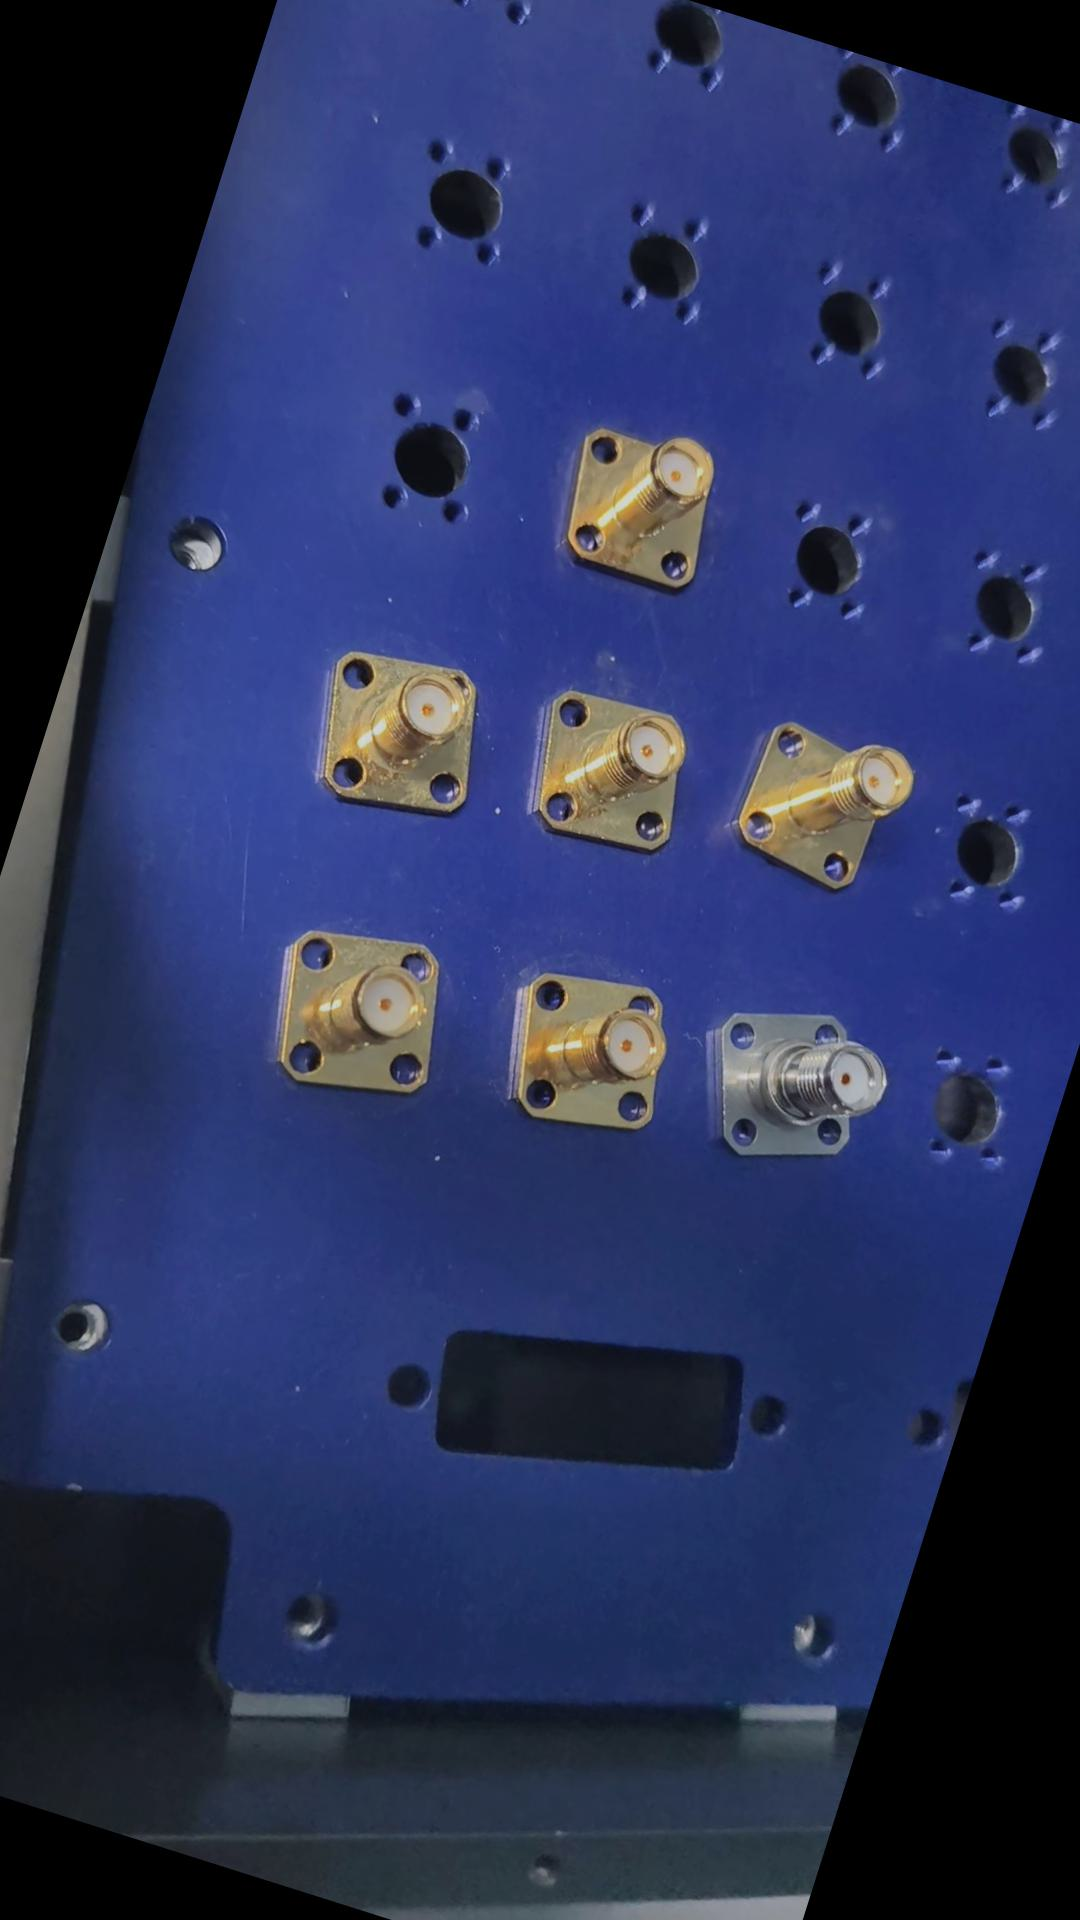SMA: (252, 893, 476, 1124), (481, 938, 695, 1159), (284, 626, 508, 836), (542, 404, 757, 611), (688, 975, 894, 1189), (513, 670, 713, 869), (725, 708, 924, 903)
